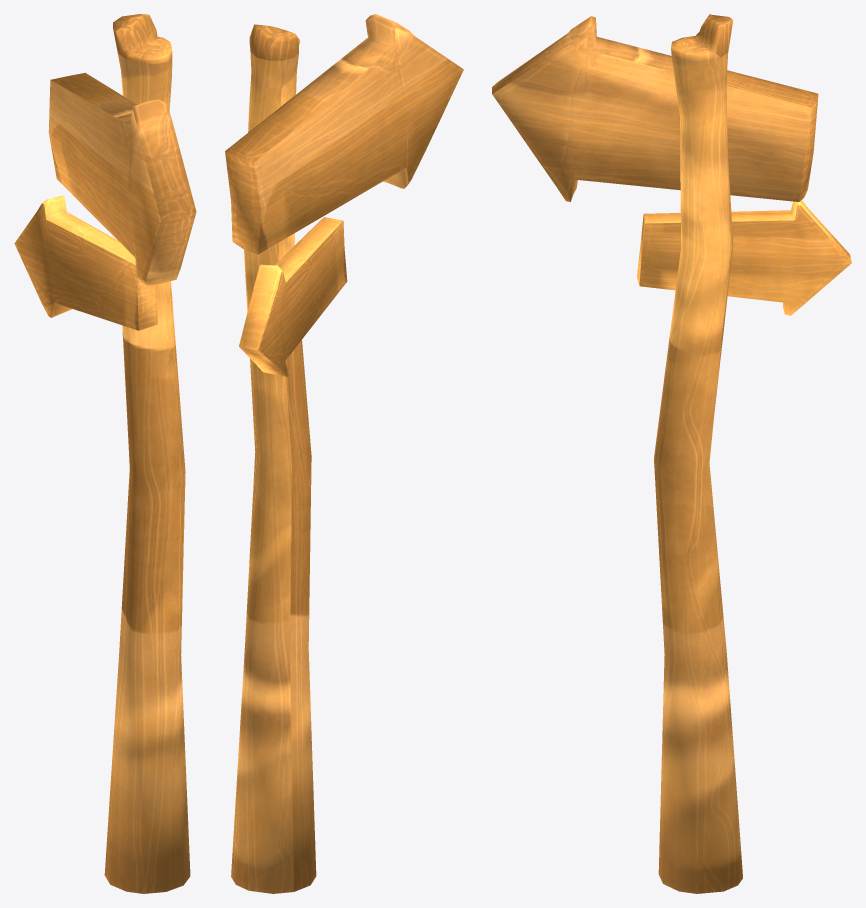
The model's file is SM_Stylized_Board_A.fbx.
3 renders of one model, left to right at view 1: azimuth 30°, elevation 25°; view 2: azimuth 150°, elevation 25°; view 3: azimuth 270°, elevation 25°, orthographic.
Visible parts, largest first — view 1: SM_Stylized_Board_A_LOD0; view 2: SM_Stylized_Board_A_LOD0; view 3: SM_Stylized_Board_A_LOD0.
Part boxes in pixels (x1,y1,x2,y2): SM_Stylized_Board_A_LOD0: (14, 14, 196, 893); SM_Stylized_Board_A_LOD0: (225, 14, 463, 893); SM_Stylized_Board_A_LOD0: (492, 14, 851, 893).
Size of the model in its own units: 30 by 75.06 by 197.
